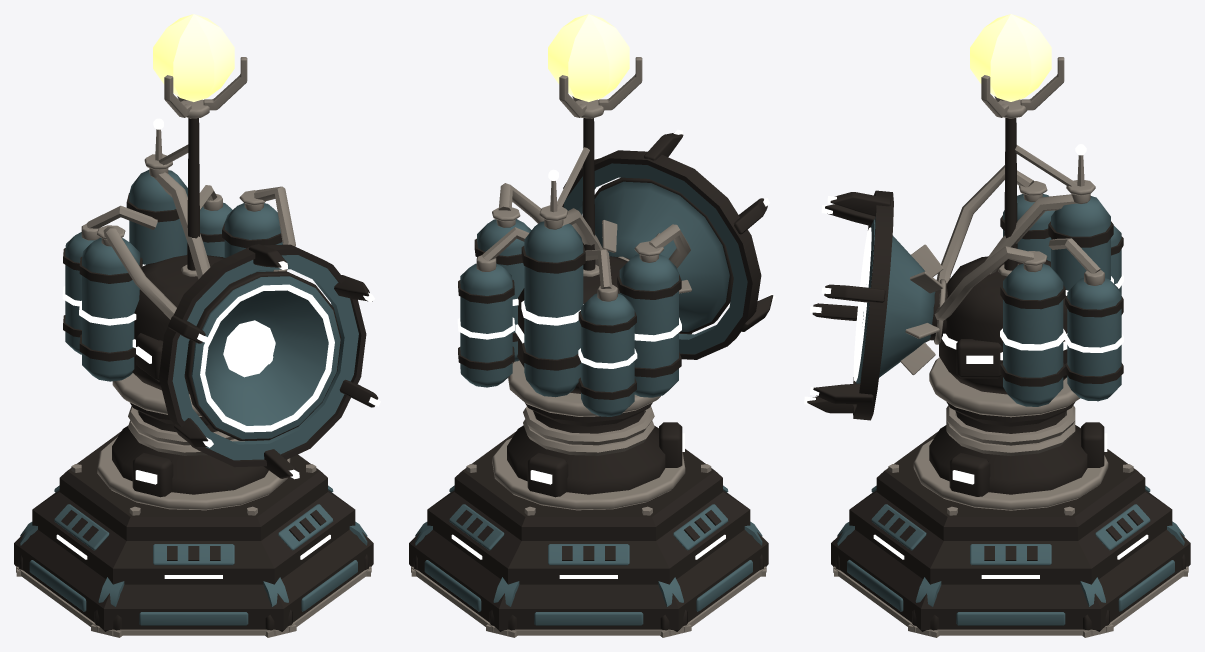
File: tower_cryo.glb
3 renders of one model, left to right at view 1: azimuth 30°, elevation 25°; view 2: azimuth 150°, elevation 25°; view 3: azimuth 270°, elevation 25°, orthographic.
Visible parts, largest first — view 1: base, turret, dish, lvl3, tower_cryo, lvl2; view 2: base, turret, lvl2, lvl3, dish, tower_cryo; view 3: base, turret, lvl3, lvl2, dish, tower_cryo.
Boxes of the visible parts, x1,y1,x2,y2 form: base: (14, 402, 373, 637); turret: (79, 57, 295, 416); dish: (185, 271, 341, 440); lvl3: (159, 244, 380, 479); tower_cryo: (153, 14, 234, 101); lvl2: (62, 185, 232, 354); base: (409, 402, 768, 637); turret: (474, 57, 690, 416); lvl2: (457, 227, 637, 416); lvl3: (562, 129, 775, 359); dish: (594, 177, 733, 333); tower_cryo: (548, 14, 629, 101); base: (831, 401, 1190, 637); turret: (929, 57, 1113, 417); lvl3: (804, 190, 893, 420); lvl2: (1048, 225, 1123, 401); dish: (853, 219, 943, 383); tower_cryo: (970, 14, 1051, 101).
Size of the model in its own units: 1.66 by 3.15 by 1.99.
